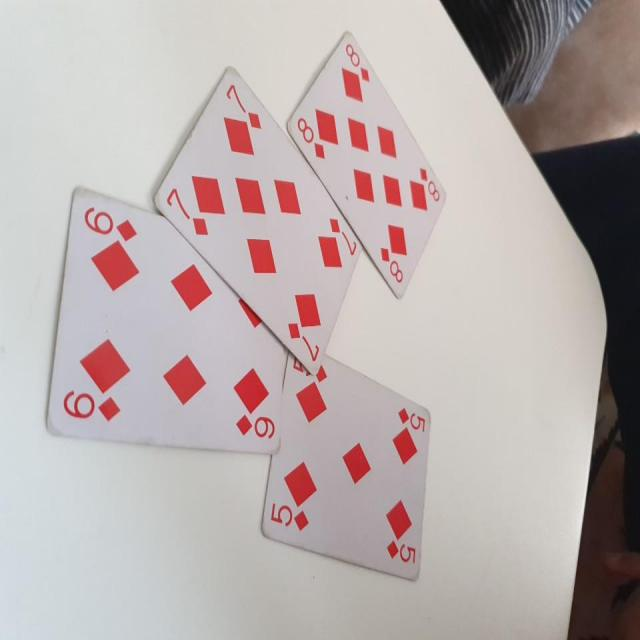5 Diamonds: (256, 348, 432, 584)
6 Diamonds: (45, 183, 284, 453)
7 Diamonds: (155, 63, 360, 376)
8 Diamonds: (286, 31, 447, 302)
